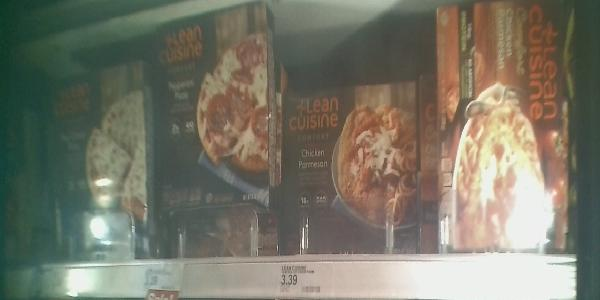pizza1: (437, 1, 574, 252), (157, 5, 281, 251), (37, 58, 156, 254), (284, 80, 420, 251)
